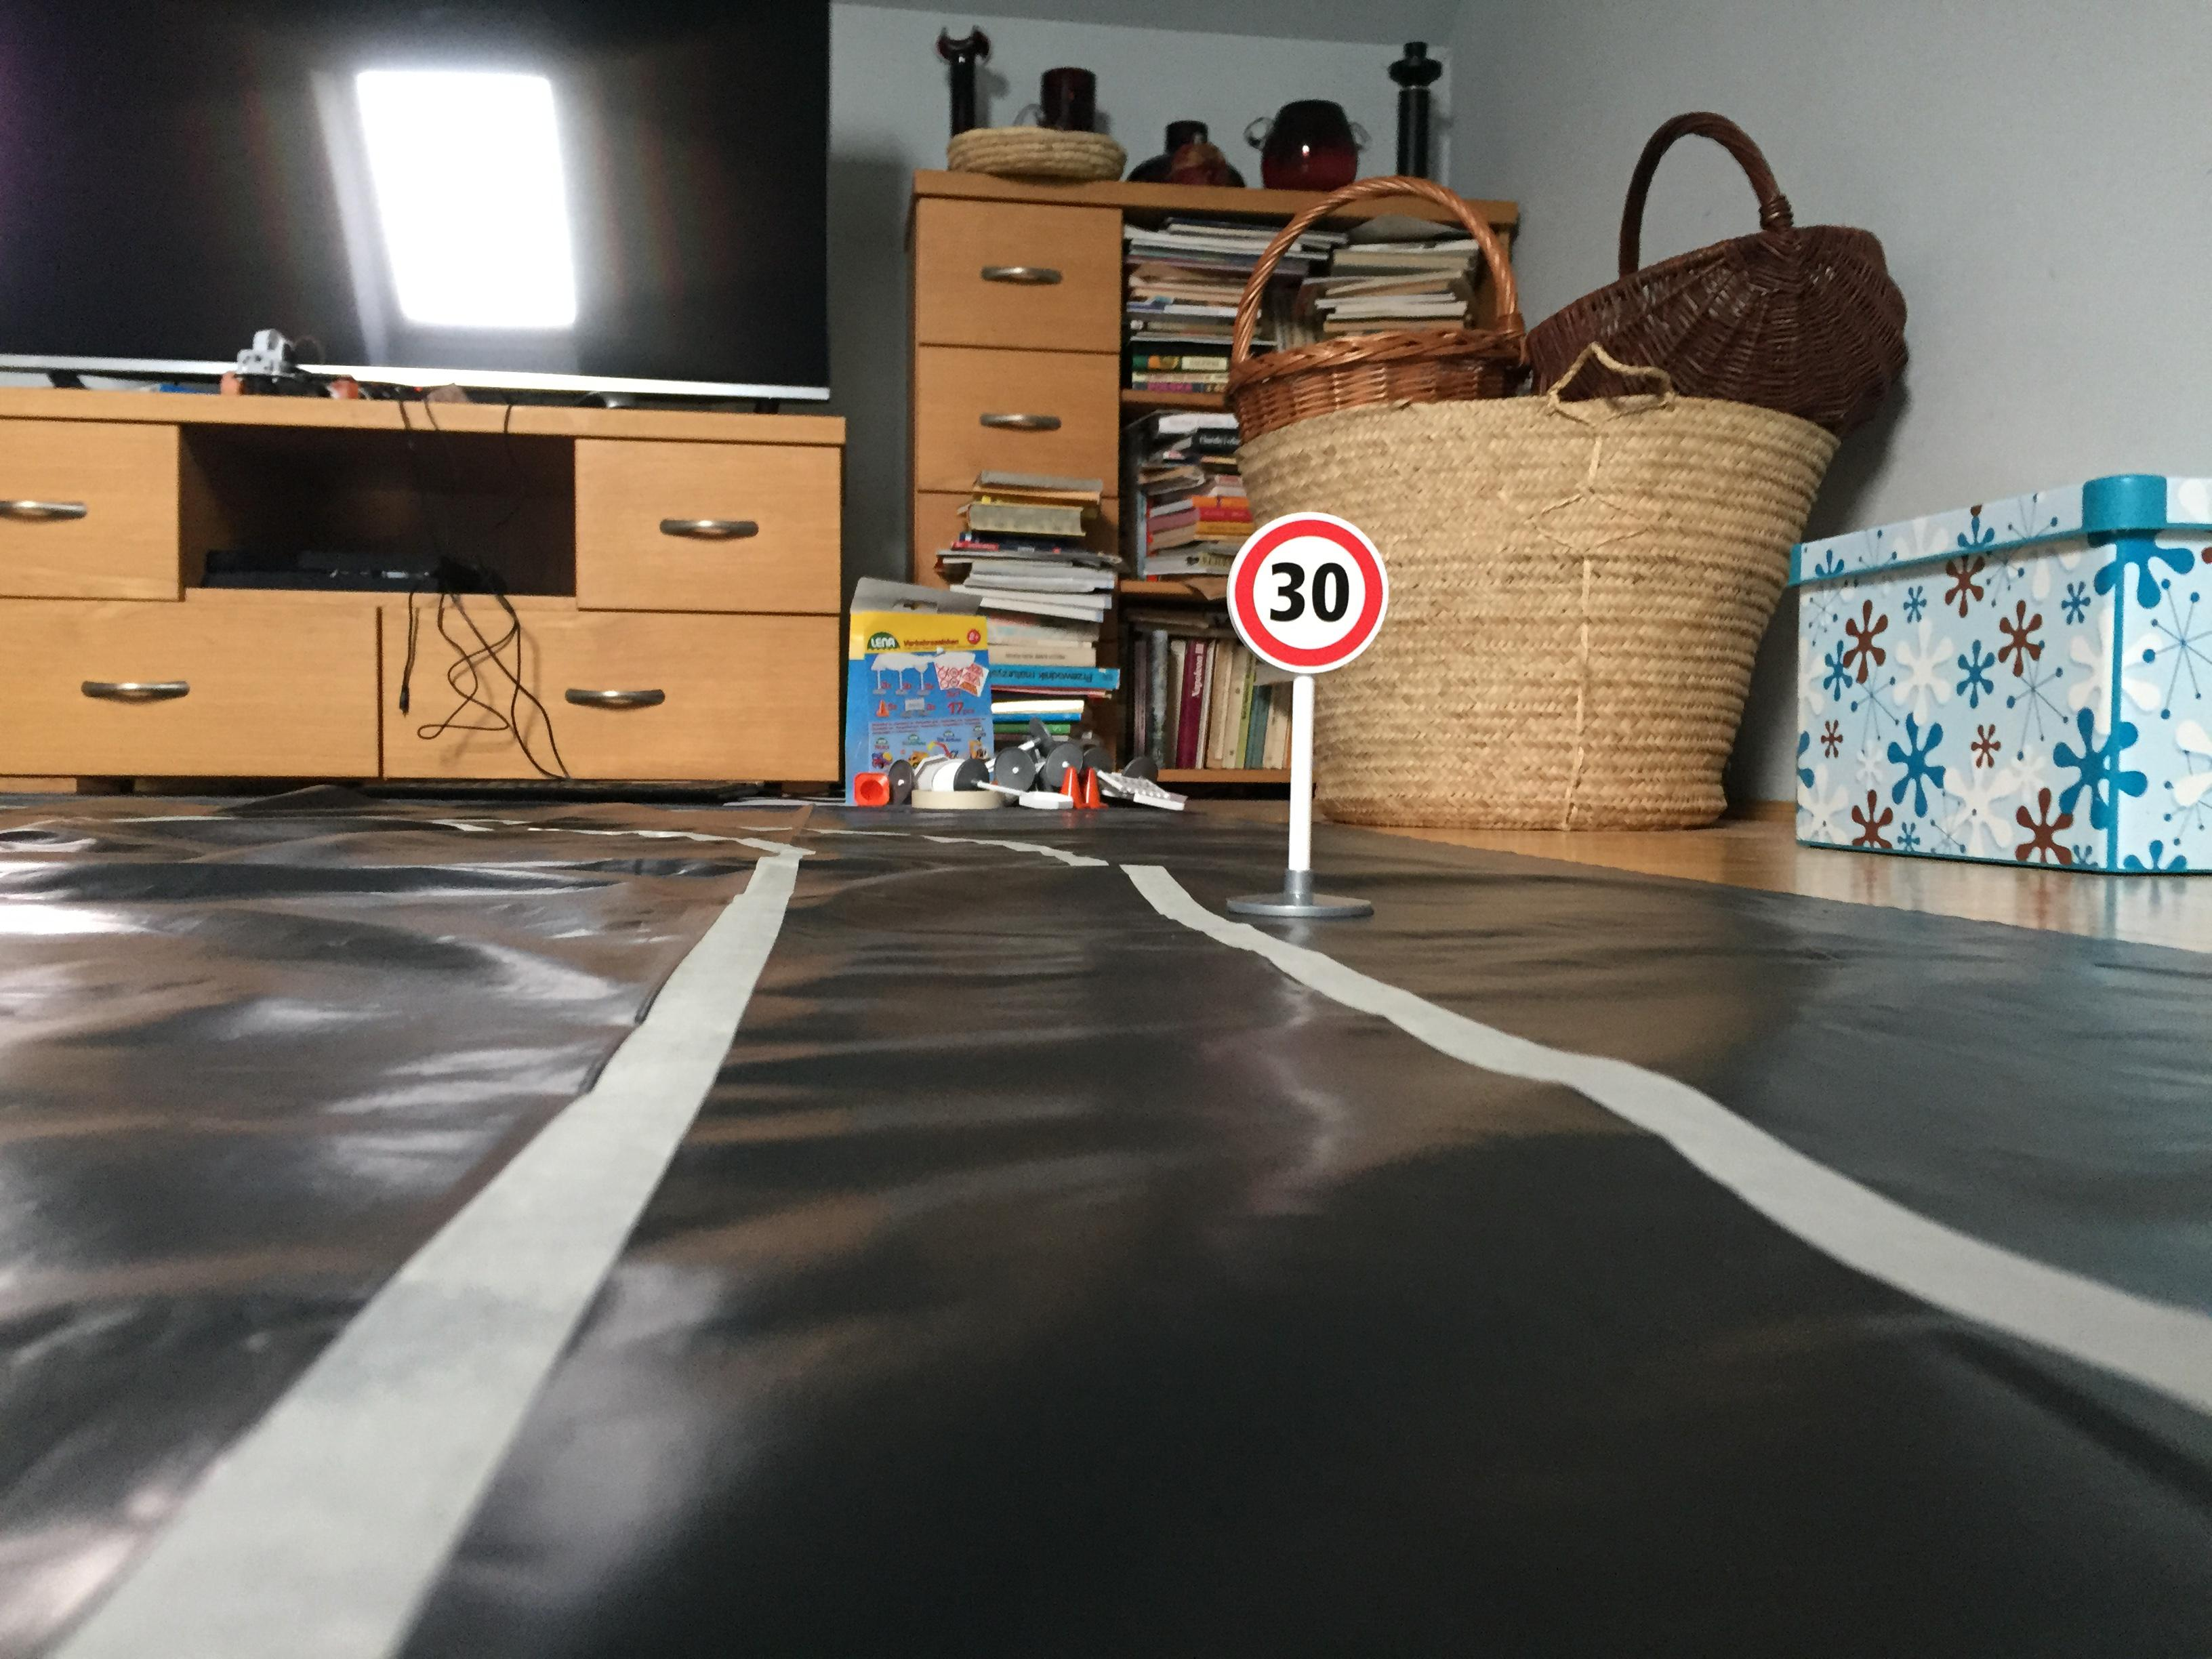speed: (1224, 512, 1399, 680)
